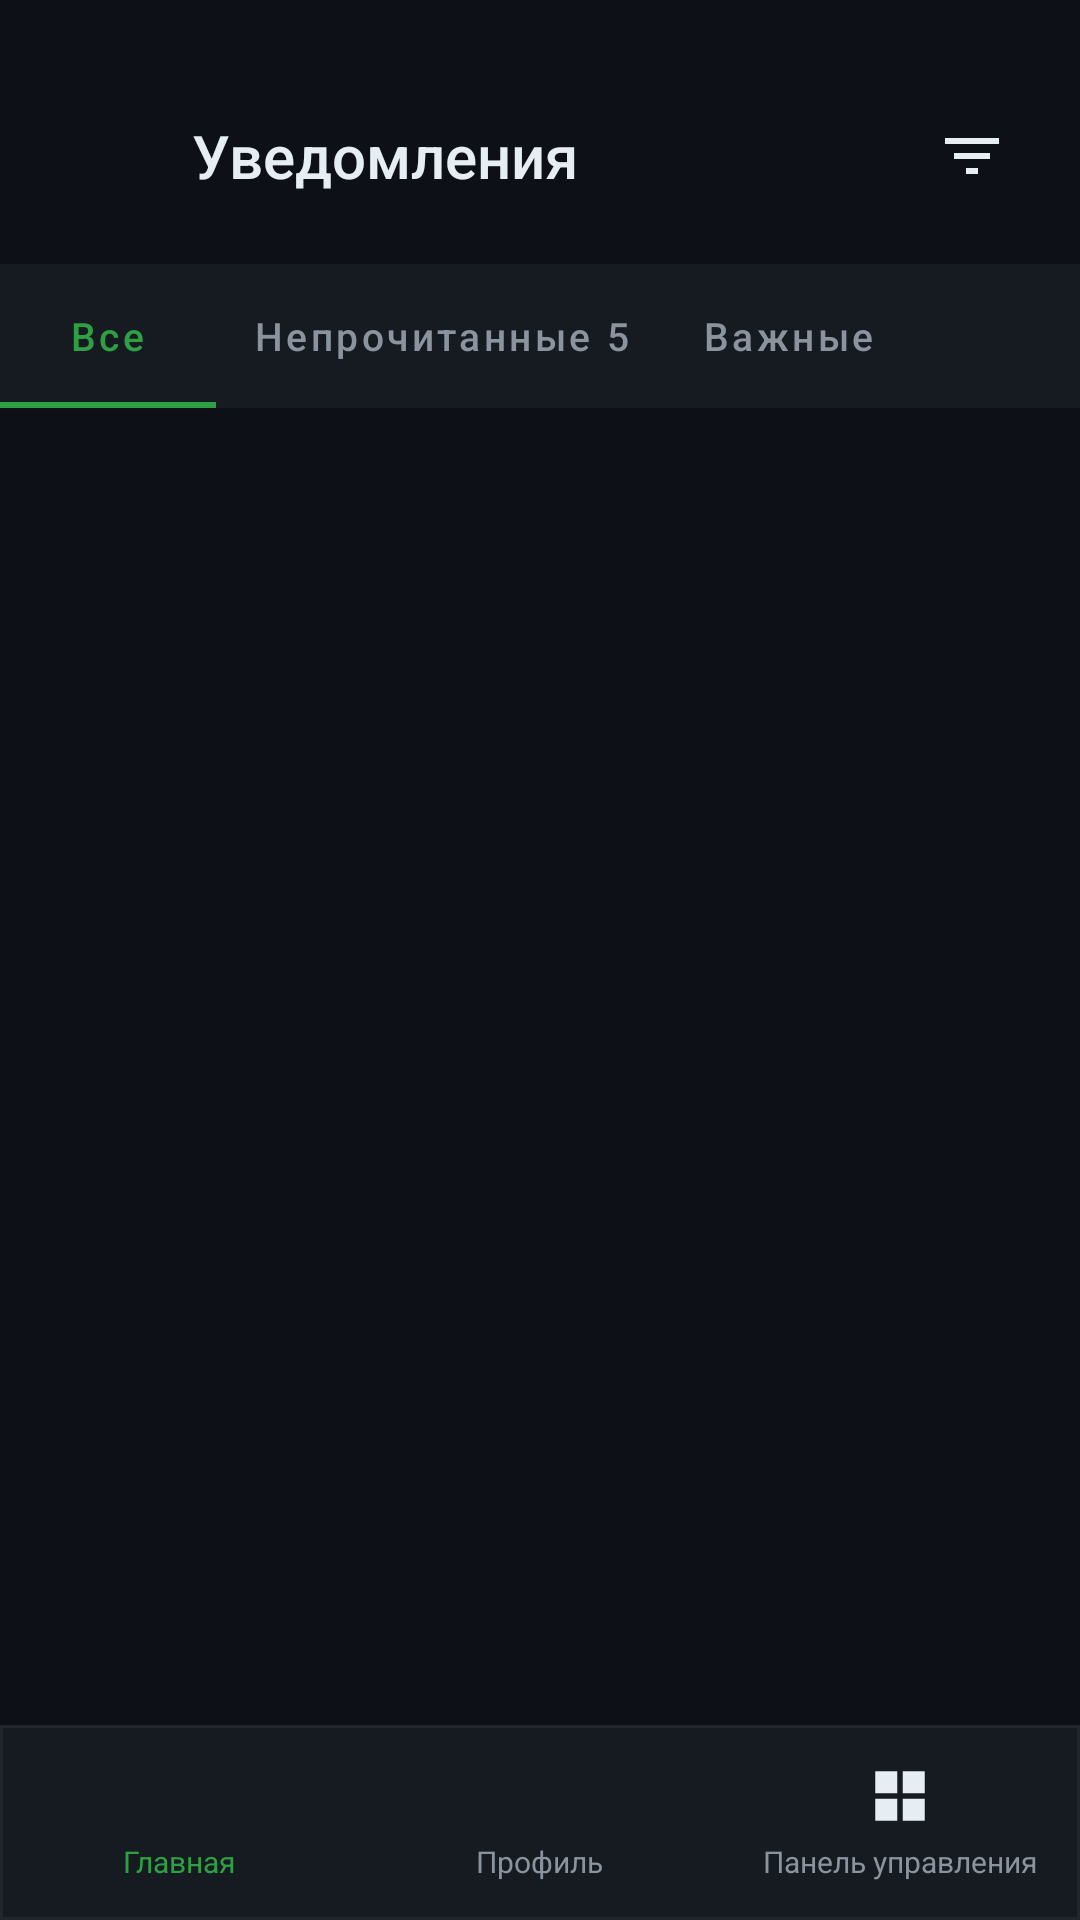

Point at icon controls on the screen. Image size 1080×1920, points as (x=x, y=y).
Filter: (x=972, y=156)
